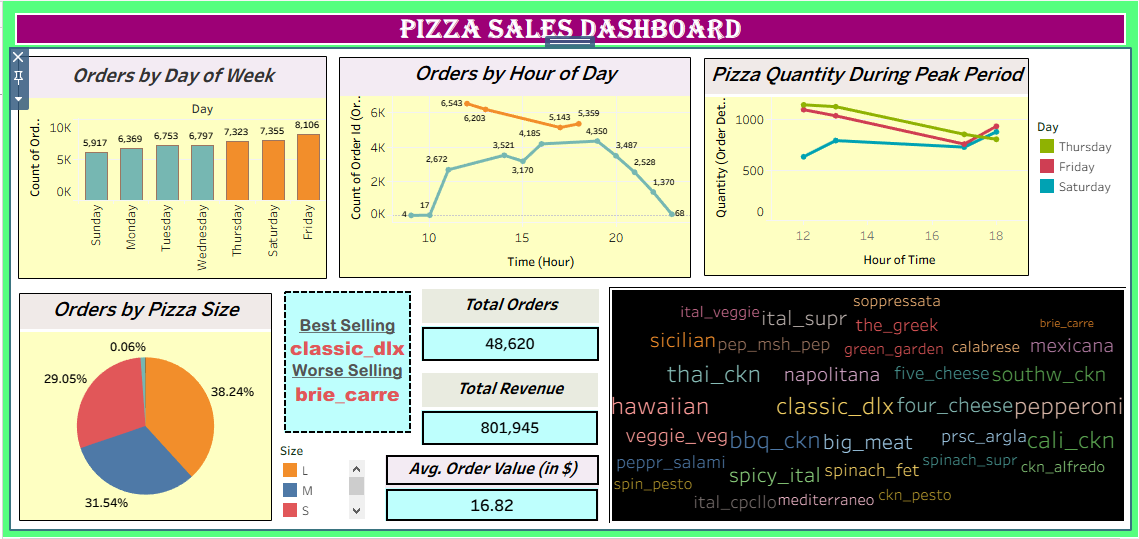

The dashboard page shown, as its layout file describes it:
{"tool":"tableau","page":{"name":"Dashboard 1","canvas":[1000,1000],"units":"permille","ordinal":0},"visuals":[{"type":"title","box":[7,14.9,985.9,74.6]},{"type":"worksheet","title":"Sheet 1","mark":"Bar","rows":["order_id (orders.csv)"],"cols":["Calculation_394346492905824259"],"box":[13.2,102.6,272.2,416]},{"type":"worksheet","title":"Sheet 2","mark":"Automatic","rows":["order_id (orders.csv)"],"cols":["Calculation_394346492910014469"],"box":[296,104.5,310.1,412.3]},{"type":"worksheet","title":"Sheet 3","mark":"Automatic","rows":["quantity (order_details.csv1)"],"cols":["time"],"box":[617.6,106.3,286.3,406.7]},{"type":"legend","title":"Sheet 3","param":"[federated.0osg03907l99om17cupjh0794jaj].[none:Calculation_394346492905824259:nk","box":[911,218.3,77.5,201.5]},{"type":"worksheet","title":"Sheet 4","mark":"Text","box":[533.9,533.6,455.5,440.3]},{"type":"worksheet","title":"Sheet 7","mark":"Automatic","box":[368.3,537.3,156.8,134.3]},{"type":"text","box":[247.6,541,111.9,264.9]},{"type":"worksheet","title":"Sheet 6","mark":"Pie","box":[14.1,544.8,222.9,425.4]},{"type":"worksheet","title":"Sheet 8","mark":"Automatic","box":[368.3,694,156,134.3]},{"type":"legend","title":"Sheet 6","param":"[federated.0osg03907l99om17cupjh0794jaj].[none:size:nk]","box":[244.1,822.8,76.7,143.7]},{"type":"worksheet","title":"Sheet 5","mark":"Text","box":[336.6,847,188.6,123.1]}]}

Visuals, with their boxes on the dashboard's canvas, which has no fixed pixel size, in thousandths of its width and height (x1, y1, x2, y2). These are canvas units, not pixel positions in the 1139x539 screenshot, which may show the page scaled, cropped or inside an application window:
title: [left=7, top=15, right=993, bottom=90]
"Sheet 1" worksheet (Bar marks): [left=13, top=103, right=285, bottom=519]
"Sheet 2" worksheet: [left=296, top=104, right=606, bottom=517]
"Sheet 3" worksheet: [left=618, top=106, right=904, bottom=513]
"Sheet 3" legend: [left=911, top=218, right=988, bottom=420]
"Sheet 4" worksheet (Text marks): [left=534, top=534, right=989, bottom=974]
"Sheet 7" worksheet: [left=368, top=537, right=525, bottom=672]
text: [left=248, top=541, right=360, bottom=806]
"Sheet 6" worksheet (Pie marks): [left=14, top=545, right=237, bottom=970]
"Sheet 8" worksheet: [left=368, top=694, right=524, bottom=828]
"Sheet 6" legend: [left=244, top=823, right=321, bottom=966]
"Sheet 5" worksheet (Text marks): [left=337, top=847, right=525, bottom=970]
